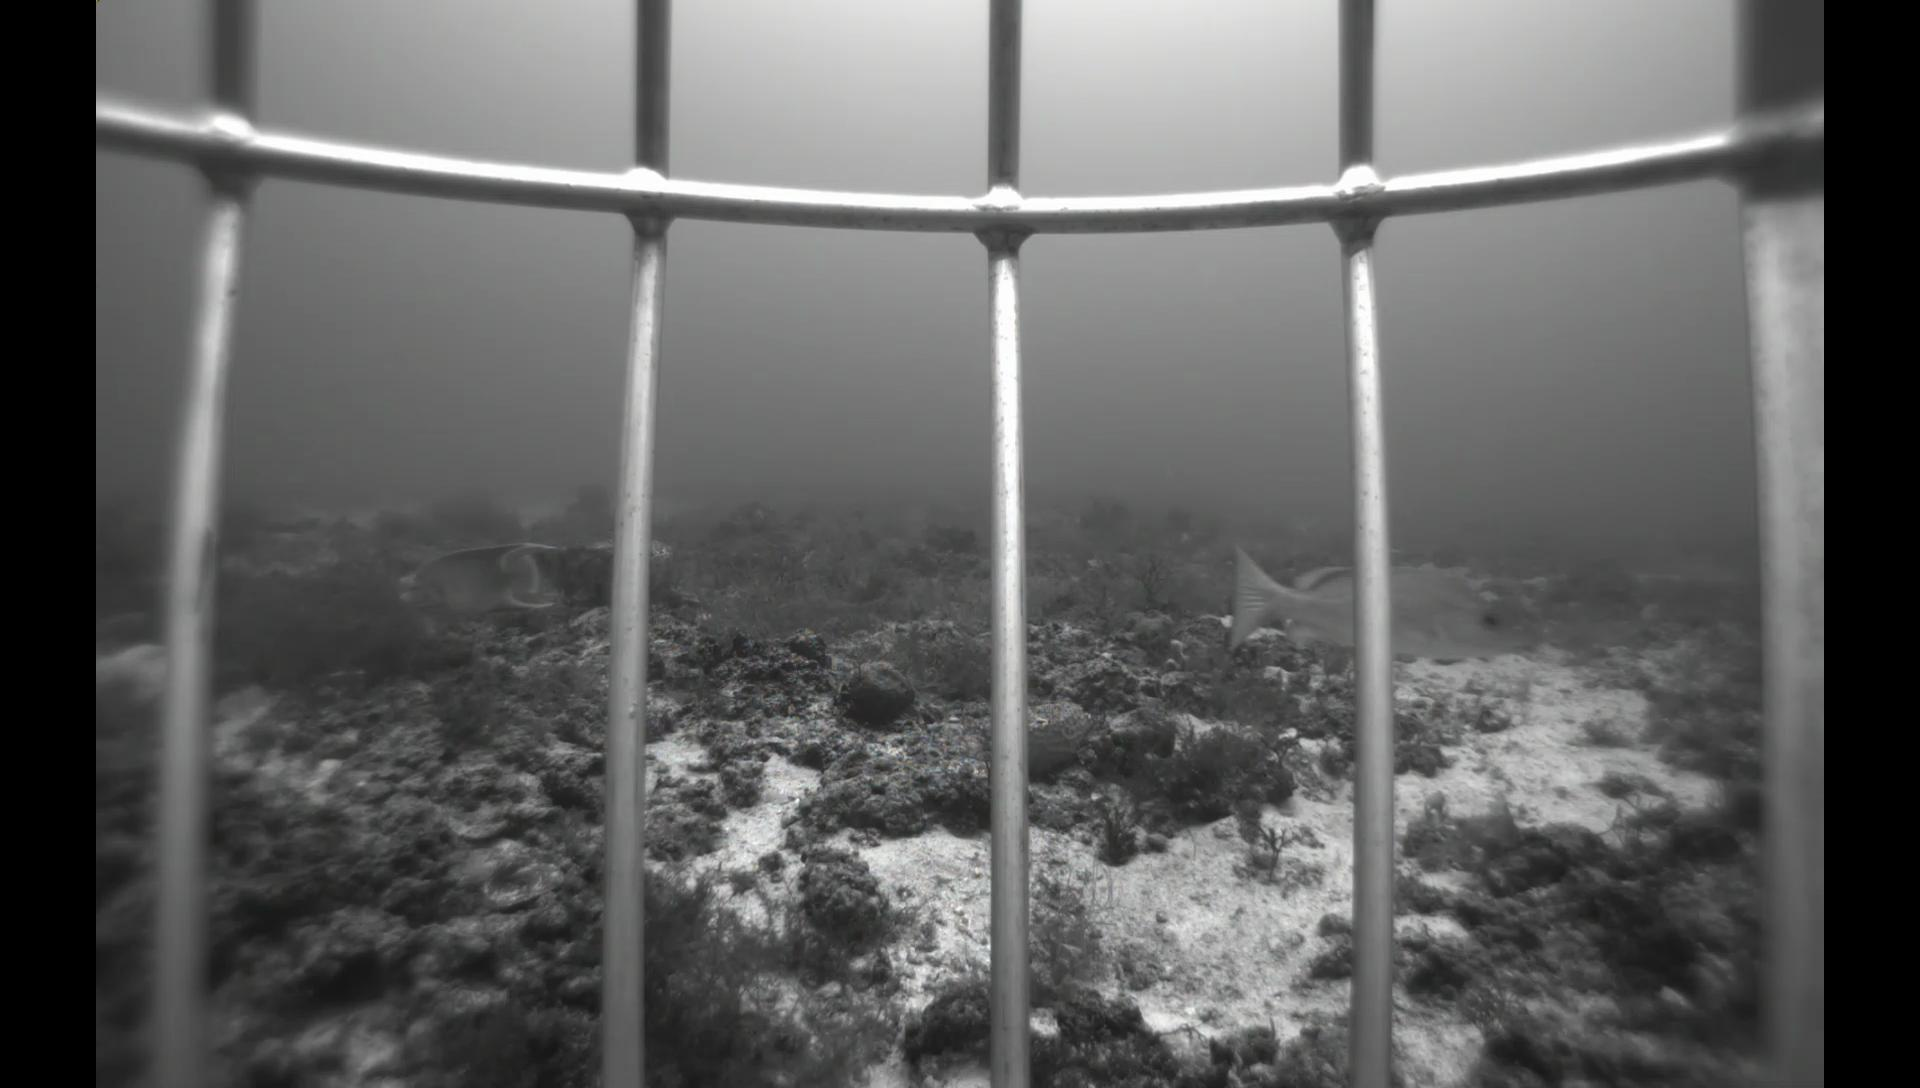HOLACANTHUSBERMUDENSIS-170290102: (389, 537, 567, 636)
LUTJANUSGRISEUS-170151109: (1211, 534, 1547, 678)
MYCTEROPERCAPHENAX-170022105: (847, 518, 891, 555)
